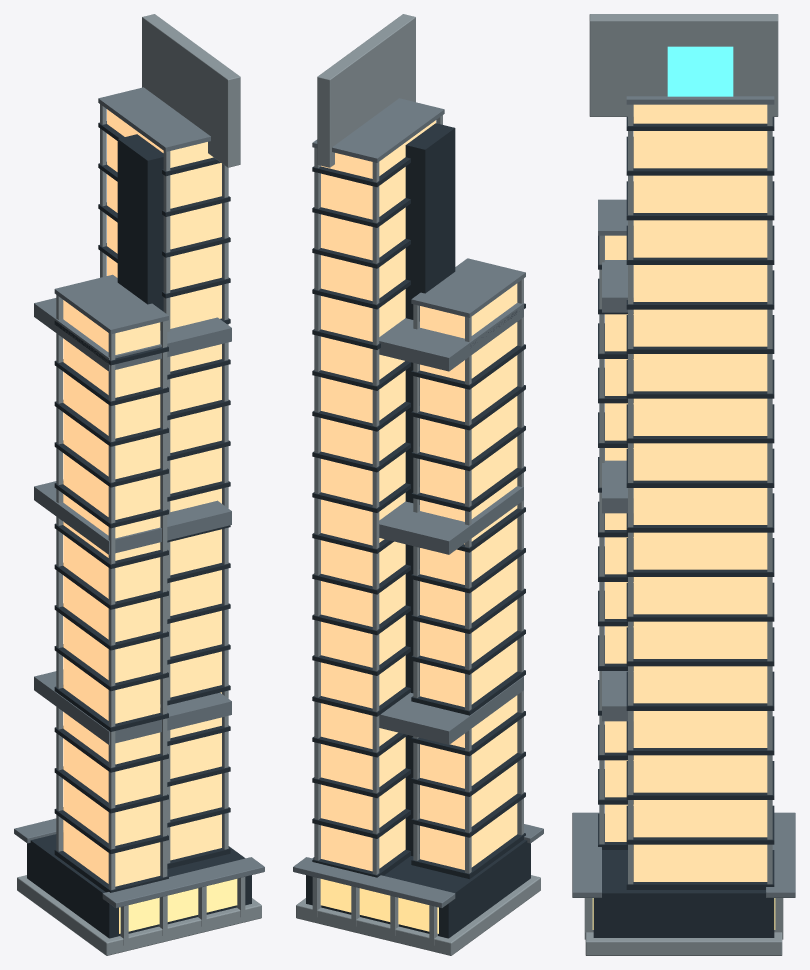
Rendered from vrx_city_hotel_a_LOD0.fbx.
3 renders of one model, left to right at view 1: azimuth 30°, elevation 25°; view 2: azimuth 150°, elevation 25°; view 3: azimuth 270°, elevation 25°, orthographic. The views are drawn at different scales.
Parts seen in each view (by area): view 1: vrx_city_hotel_a_LOD0; view 2: vrx_city_hotel_a_LOD0; view 3: vrx_city_hotel_a_LOD0.
Boxes of the visible parts, x1,y1,x2,y2 form: vrx_city_hotel_a_LOD0: (14, 14, 264, 955); vrx_city_hotel_a_LOD0: (293, 14, 543, 955); vrx_city_hotel_a_LOD0: (572, 14, 795, 955).
Size of the model in its own units: 24 by 124 by 27.2.
